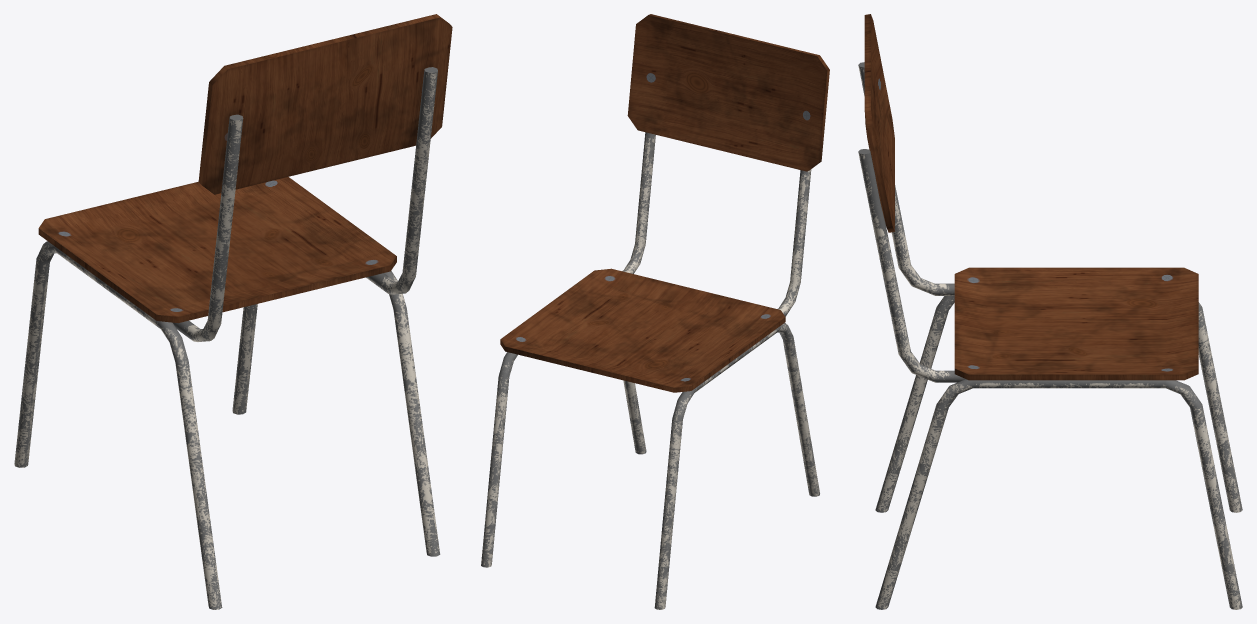
Rendered from Chairschool_AA.fbx.
The picture shows the model from 3 angles, left to right: view 1: azimuth 30°, elevation 25°; view 2: azimuth 150°, elevation 25°; view 3: azimuth 270°, elevation 25°; orthographic projection. The views are drawn at different scales.
Visible parts, largest first — view 1: Chairschool_AA; view 2: Chairschool_AA; view 3: Chairschool_AA.
Part boxes in pixels (x1=…): Chairschool_AA: x1=14, y1=14, x2=452, y2=609; Chairschool_AA: x1=481, y1=14, x2=829, y2=609; Chairschool_AA: x1=858, y1=14, x2=1242, y2=609.
Size of the model in its own units: 0.4673 by 0.7099 by 1.01.
1 material, 1 textured.
